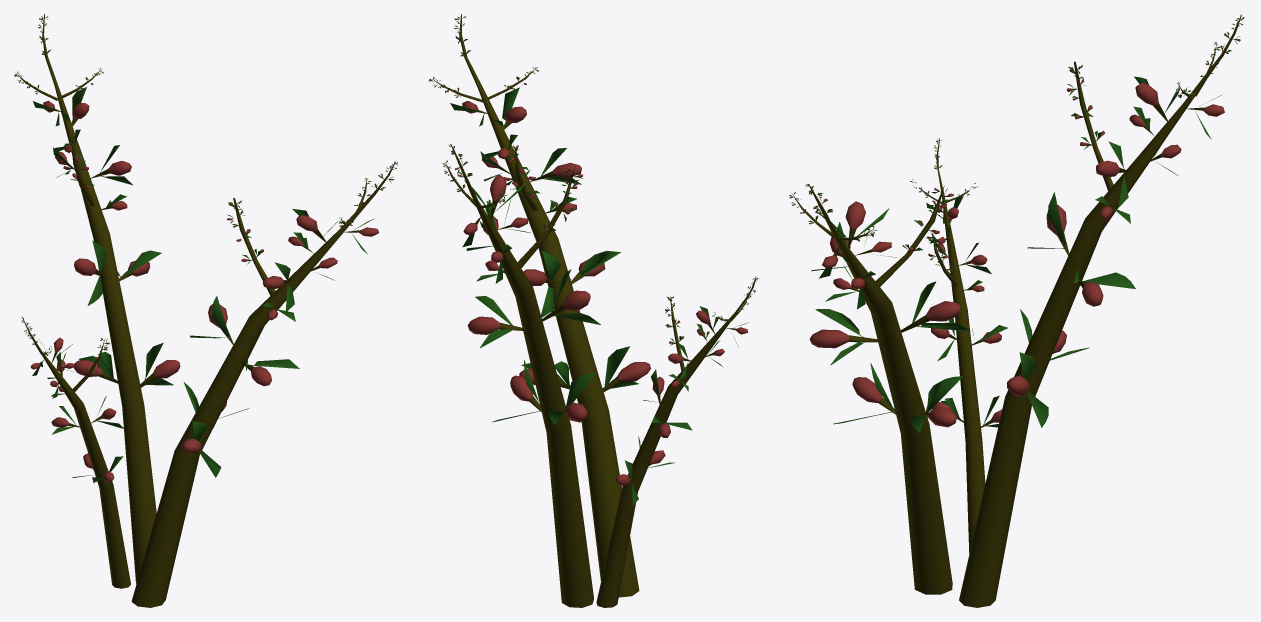
The model's file is SM_Catuaba_001_LOD1.fbx.
The picture shows the model from 3 angles, left to right: view 1: azimuth 30°, elevation 25°; view 2: azimuth 150°, elevation 25°; view 3: azimuth 270°, elevation 25°; orthographic projection. The views are drawn at different scales.
Visible parts, largest first — view 1: Catuaba; view 2: Catuaba; view 3: Catuaba.
Part boxes in pixels (x1,y1,x2,y2): Catuaba: (14,14,398,607); Catuaba: (428,14,758,607); Catuaba: (789,14,1246,607).
Bounding box in the file's own units: 38.95 × 55.9 × 39.49.
